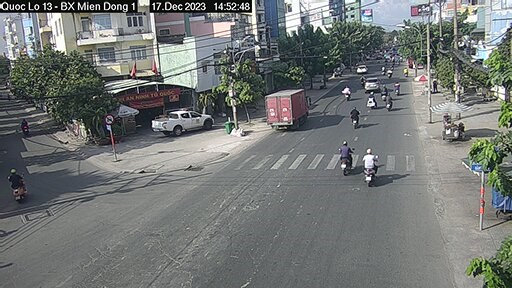car: (154, 106, 220, 134)
motorbike: (336, 137, 358, 177), (360, 146, 379, 187), (346, 108, 359, 127)
truck: (263, 89, 310, 131)
